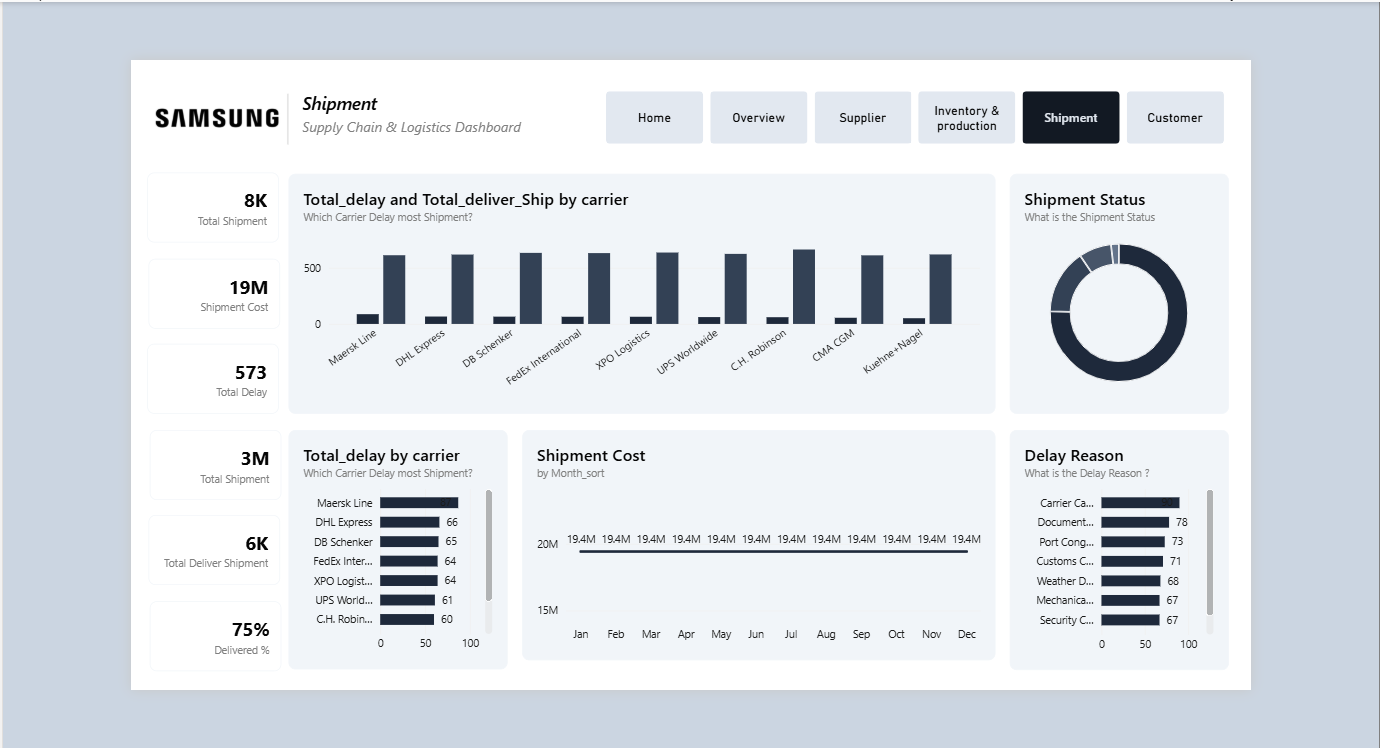

What the dashboard file says about the page in this screenshot:
{"tool":"powerbi","page":{"name":"Shipment","canvas":[1280,720],"ordinal":4},"visuals":[{"type":"image","box":[16.5,36.9,156,58],"z":7000},{"type":"shape","title":"Shipment ","box":[196.4,36.4,263.6,62.7],"z":17000},{"type":"shape","box":[159.1,38.9,41.3,58],"z":18000},{"type":"cardVisual","fields":{"Data":["Measure Table.Shipment_Cost"]},"box":[20,226.5,150,80],"z":19000},{"type":"cardVisual","fields":{"Data":["Measure Table.Total_delay"]},"box":[19.2,324.5,150,80],"z":20000},{"type":"cardVisual","fields":{"Data":["Measure Table.Total_Shipment_quantity"]},"box":[20.8,422.4,150,80],"z":21000},{"type":"cardVisual","fields":{"Data":["Measure Table.Delivered %"]},"box":[21.7,618.3,150,80],"z":22000},{"type":"cardVisual","fields":{"Data":["Measure Table.Total_deliver_Ship"]},"box":[20,520.4,150,80],"z":23000},{"type":"cardVisual","fields":{"Data":["Measure Table.Total Shipment"]},"box":[18.6,128.6,150,80],"z":24000},{"type":"barChart","fields":{"Y":["Measure Table.Total_delay"],"Category":["fact_shipment.carrier"]},"box":[180,422.3,250,273.8],"z":35000},{"type":"pageNavigator","box":[542.9,35.7,711.4,60],"z":45000},{"type":"clusteredColumnChart","fields":{"Category":["fact_shipment.carrier"],"Y":["Measure Table.Total_delay","Measure Table.Total_deliver_Ship"]},"box":[180,130,807.8,274.4],"z":45001},{"type":"lineChart","fields":{"Category":["dim_date.Month_sort"],"Y":["Measure Table.Shipment_Cost"]},"box":[446.7,422.2,541.1,263.3],"z":45002},{"type":"barChart","title":"Delay Reason","fields":{"Category":["fact_shipment.delay_reason"],"Y":["Measure Table.Total_delay"]},"box":[1004.4,422.2,250,274.4],"z":45003},{"type":"donutChart","title":" Shipment Status","fields":{"Category":["fact_shipment.status"],"Y":["Measure Table.Total Shipment"]},"box":[1004.4,130,250,274.4],"z":45004}]}

Visuals, with their boxes on the page's 1280x720 design canvas (x1, y1, x2, y2). These are canvas units, not pixel positions in the 1380x748 screenshot, which may show the page scaled, cropped or inside an application window:
image: [16,37,172,95]
"Shipment " shape: [196,36,460,99]
shape: [159,39,200,97]
cardVisual - Measure Table.Shipment_Cost: [20,226,170,306]
cardVisual - Measure Table.Total_delay: [19,324,169,404]
cardVisual - Measure Table.Total_Shipment_quantity: [21,422,171,502]
cardVisual - Measure Table.Delivered %: [22,618,172,698]
cardVisual - Measure Table.Total_deliver_Ship: [20,520,170,600]
cardVisual - Measure Table.Total Shipment: [19,129,169,209]
barChart - Measure Table.Total_delay x fact_shipment.carrier: [180,422,430,696]
pageNavigator: [543,36,1254,96]
clusteredColumnChart - fact_shipment.carrier x Measure Table.Total_delay: [180,130,988,404]
lineChart - dim_date.Month_sort x Measure Table.Shipment_Cost: [447,422,988,686]
"Delay Reason" barChart: [1004,422,1254,697]
" Shipment Status" donutChart: [1004,130,1254,404]
